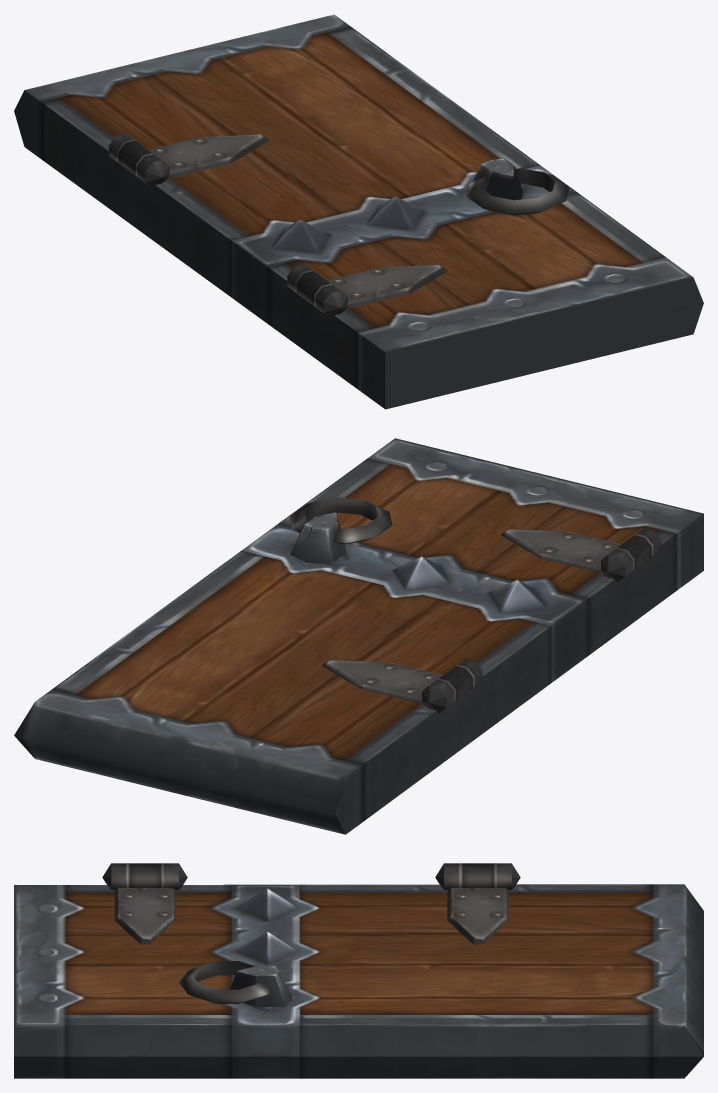
Rendered from Wall_gateR.fbx.
3 renders of one model, top to bottom at view 1: azimuth 30°, elevation 25°; view 2: azimuth 150°, elevation 25°; view 3: azimuth 270°, elevation 25°, orthographic. The views are drawn at different scales.
Visible parts, largest first — view 1: Wall_gateR; view 2: Wall_gateR; view 3: Wall_gateR.
Boxes of the visible parts, left/top/right/bottom form: Wall_gateR: left=14, top=14, right=703, bottom=409; Wall_gateR: left=14, top=438, right=703, bottom=834; Wall_gateR: left=14, top=863, right=703, bottom=1078.
Bounding box in the file's own units: 1.55 × 0.482 × 3.03.
